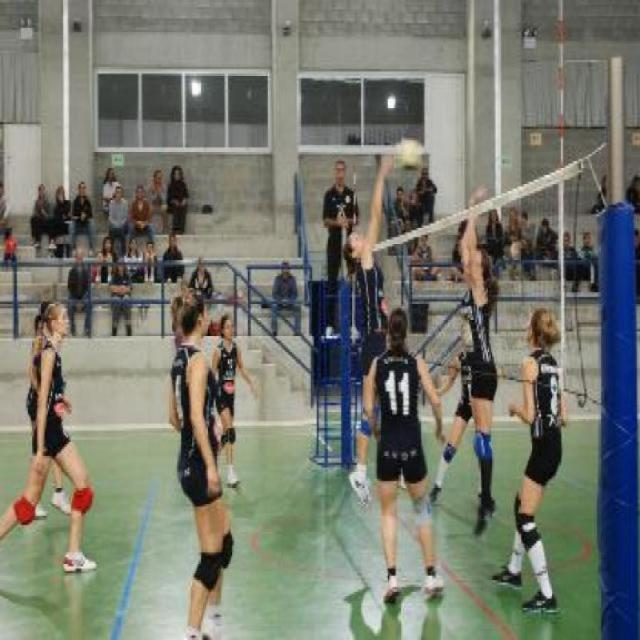volleyball: (398, 136, 424, 163)
